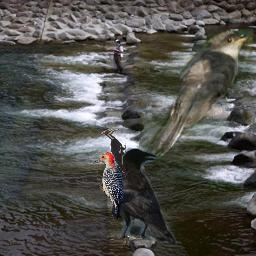Crow: (107, 148, 177, 246)
Cuckoo: (139, 29, 253, 163)
Woodpecker: (93, 152, 123, 220), (101, 129, 126, 177)
